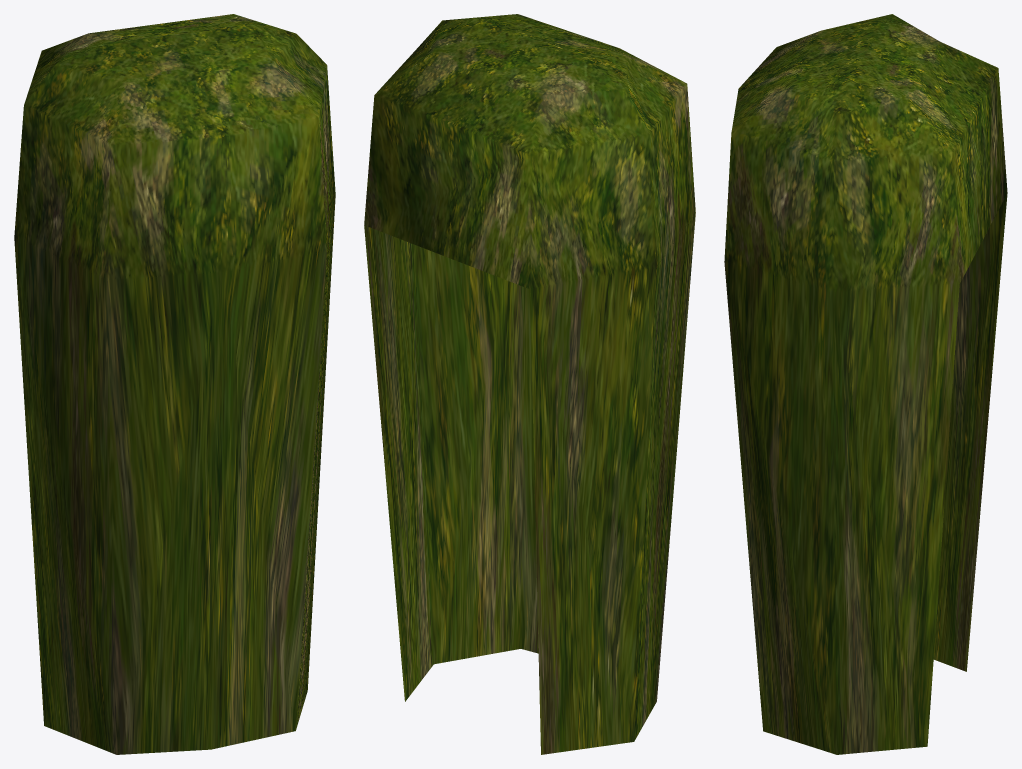
File: OVERHILL_A_01_BOX01.fbx
3 renders of one model, left to right at view 1: azimuth 30°, elevation 25°; view 2: azimuth 150°, elevation 25°; view 3: azimuth 270°, elevation 25°, orthographic. The views are drawn at different scales.
Parts seen in each view (by area): view 1: OVERHILL_A_01_BOX01; view 2: OVERHILL_A_01_BOX01; view 3: OVERHILL_A_01_BOX01.
Part boxes in pixels (<box>): OVERHILL_A_01_BOX01: <box>14,14,335,754</box>; OVERHILL_A_01_BOX01: <box>364,14,695,754</box>; OVERHILL_A_01_BOX01: <box>724,14,1007,754</box>.
Bounding box in the file's own units: 26630 × 60100 × 23759.
Materials: 1 (1 with a texture image).
